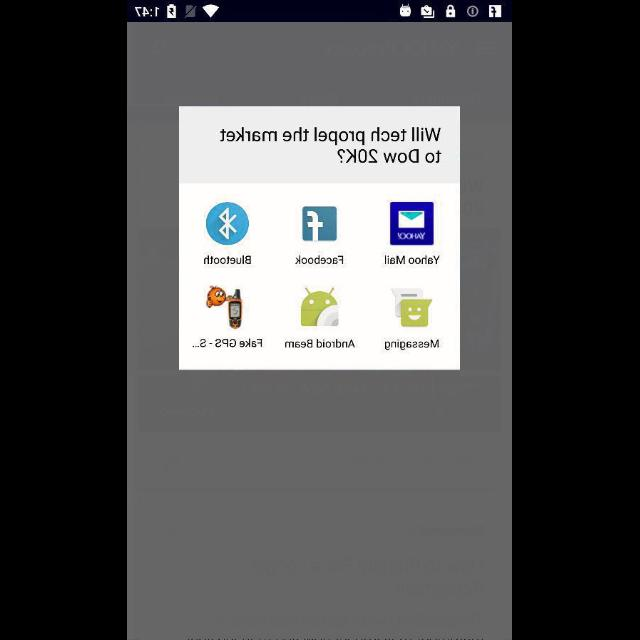icon: (207, 202, 250, 246), (303, 207, 337, 241)
image: (390, 202, 434, 246), (206, 284, 244, 330), (391, 288, 433, 328), (301, 288, 339, 326)
panel: (180, 107, 460, 371)
text: (220, 126, 442, 164), (193, 338, 263, 348), (284, 339, 356, 348), (385, 339, 439, 351), (385, 255, 441, 265), (204, 256, 252, 264), (296, 256, 344, 264)
uppertaskbar: (128, 1, 512, 23)
